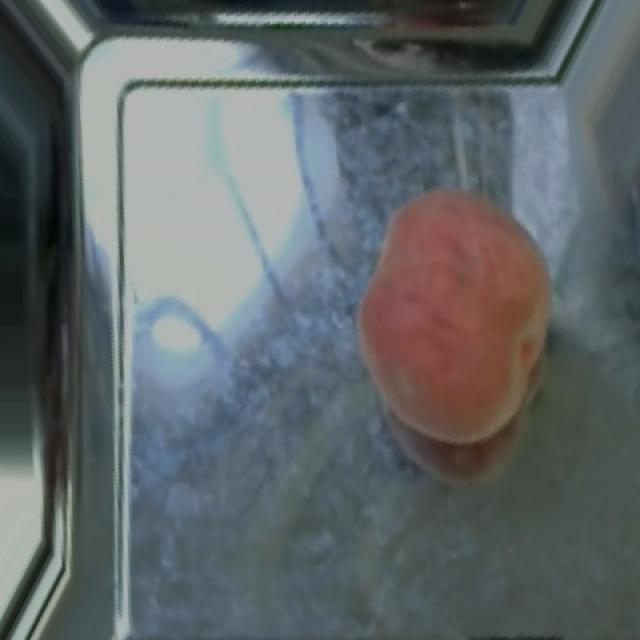Fruit: (344, 167, 577, 459)
